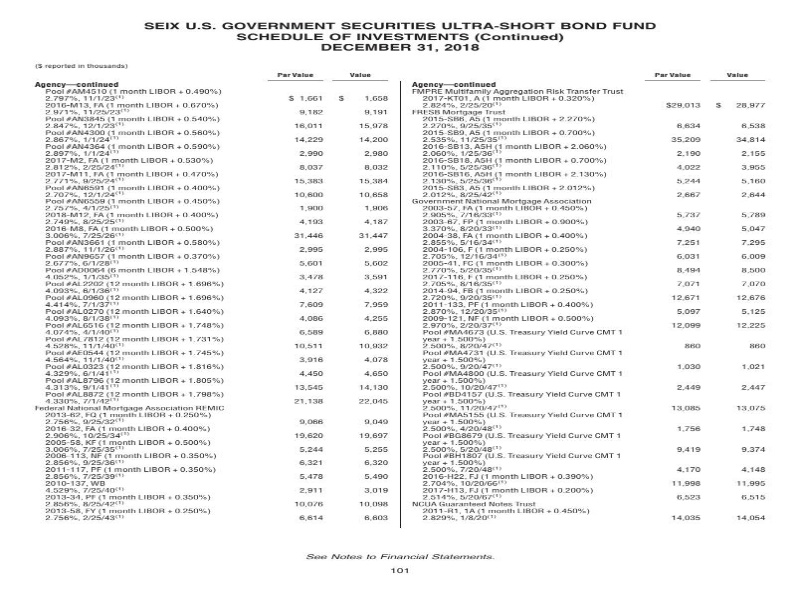table: (29, 55, 408, 540), (392, 65, 780, 535)
